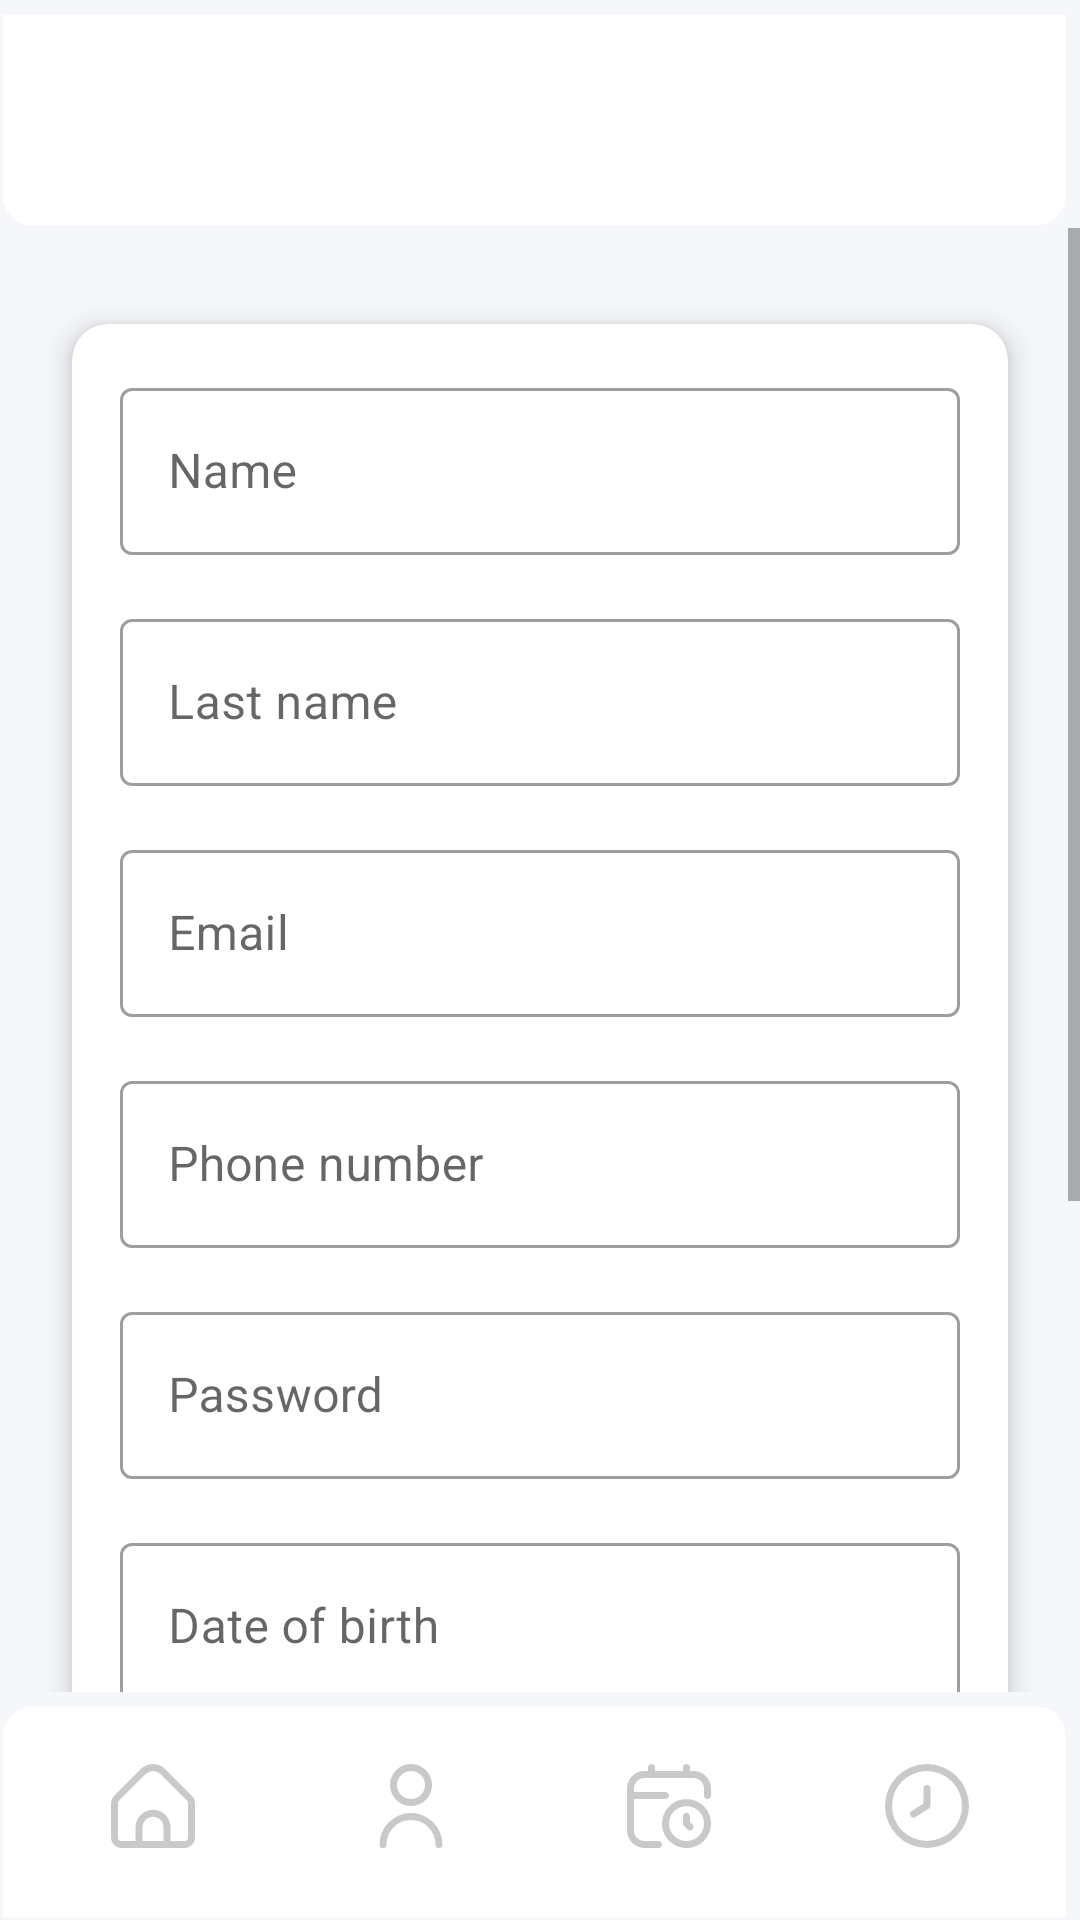

Where to tap for icons on this 1080×1920 app screen, as [x,y]:
calendar clock: [669,1806]
clock: [927,1806]
home: [153,1806]
user: [411,1806]
